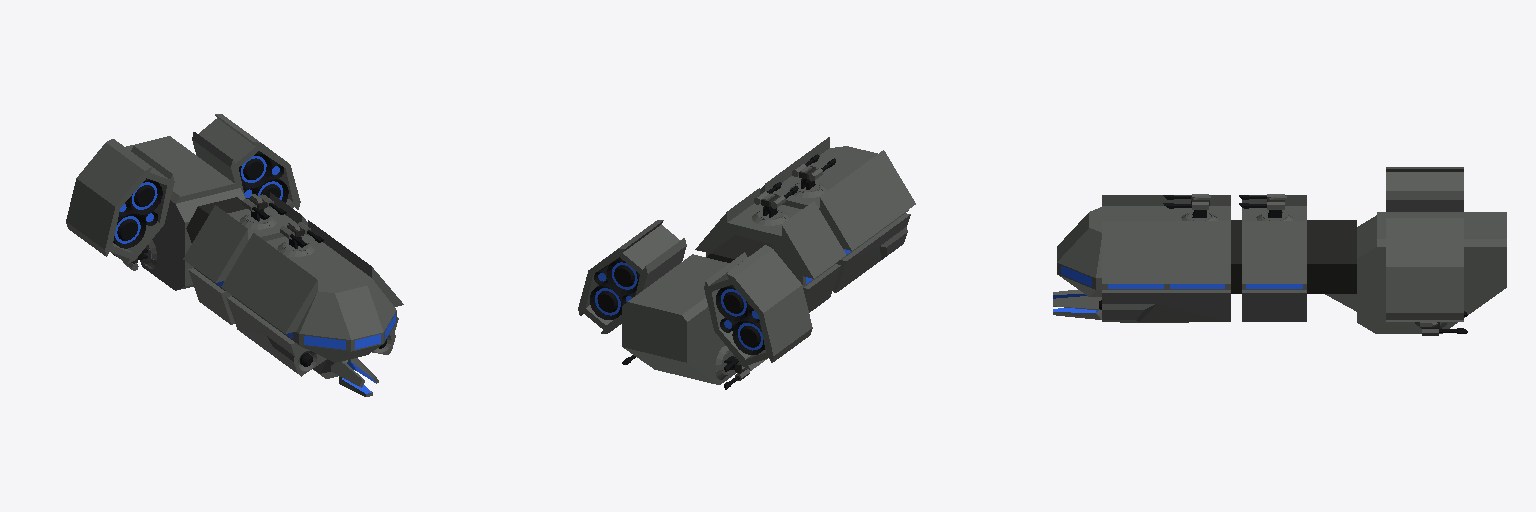
File: starship.obj
3 views of the same model, side by side, from view 1: azimuth 30°, elevation 25°; view 2: azimuth 150°, elevation 25°; view 3: azimuth 270°, elevation 25° (orthographic).
Size of the model in its own units: 30.14 by 18.37 by 60.48.